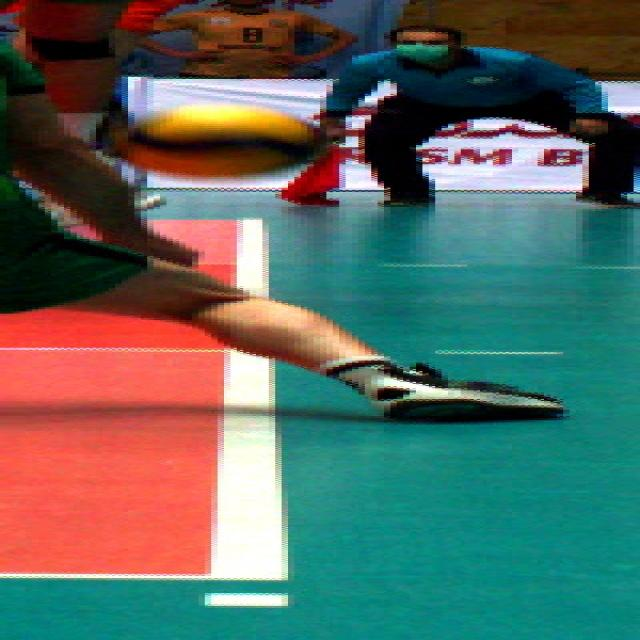Volleyball: (108, 103, 332, 179)
